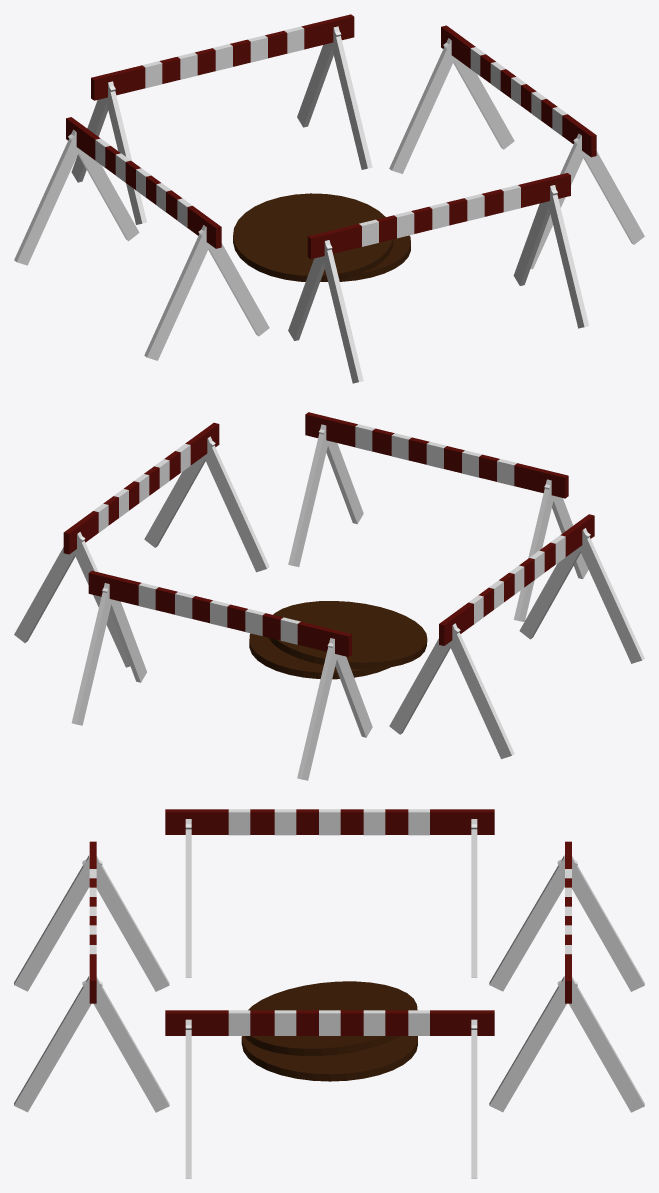
The model's file is Sewer_works.fbx.
3 views of the same model, one above another, from view 1: azimuth 30°, elevation 25°; view 2: azimuth 150°, elevation 25°; view 3: azimuth 270°, elevation 25° (orthographic). The views are drawn at different scales.
Visible parts, largest first — view 1: Cylinder.001; view 2: Cylinder.001; view 3: Cylinder.001.
Part boxes in pixels (x1=…): Cylinder.001: x1=14, y1=14, x2=644, y2=383; Cylinder.001: x1=14, y1=412, x2=644, y2=780; Cylinder.001: x1=14, y1=809, x2=644, y2=1178.
Bounding box in the file's own units: 804 × 198 × 804.
